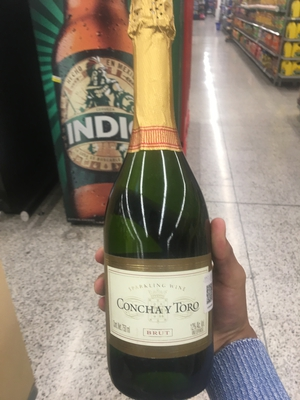brut: (90, 13, 231, 398)
